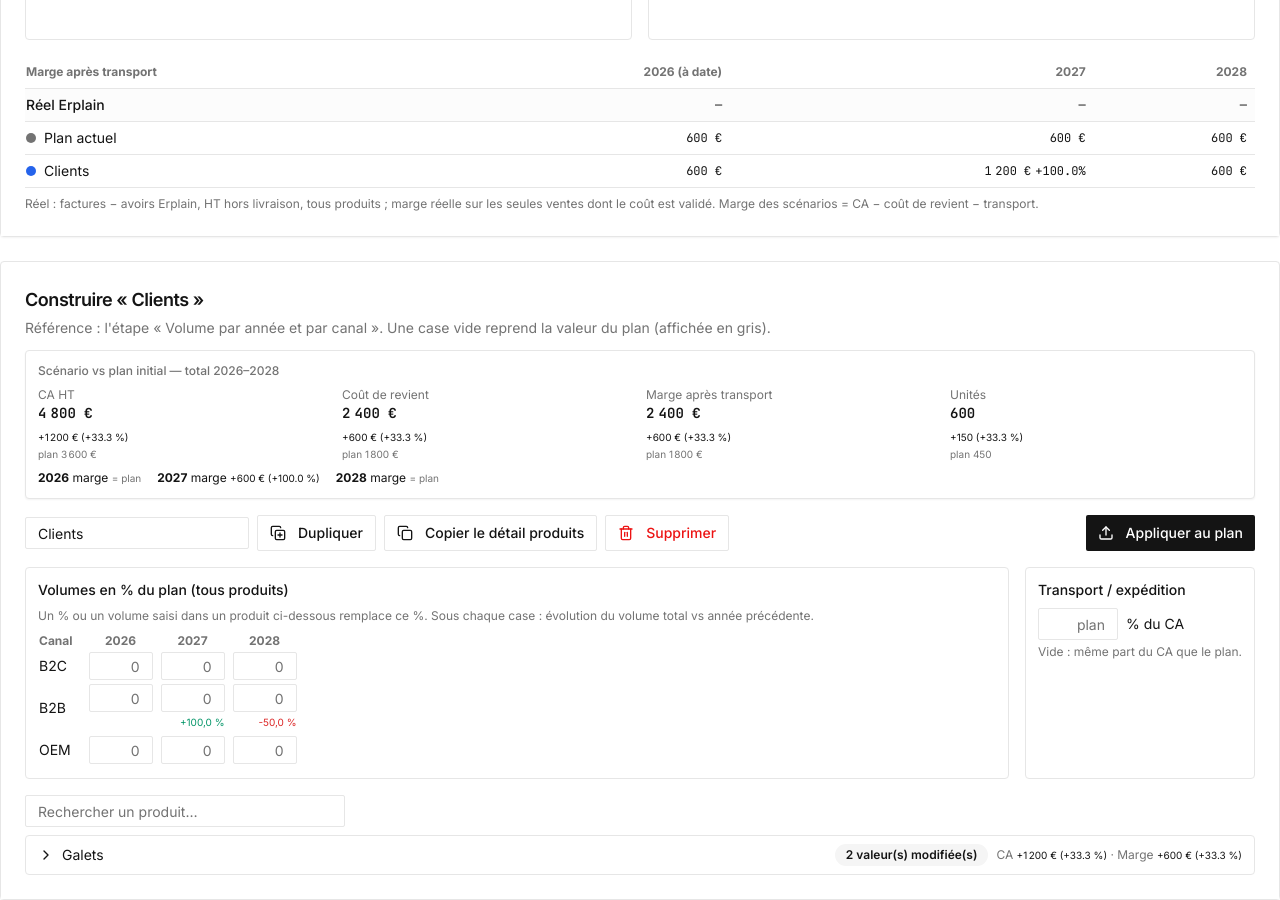
saisie de croissance des clients dans un scénario › bloque la croissance client quand un total est saisi et retrouve le taux en retirant ce total
Later steps or results of the test are not shown.
(page scrolled)
Click the button "Galets" at (83, 854), box [26, 836, 1254, 874]
(page scrolled)
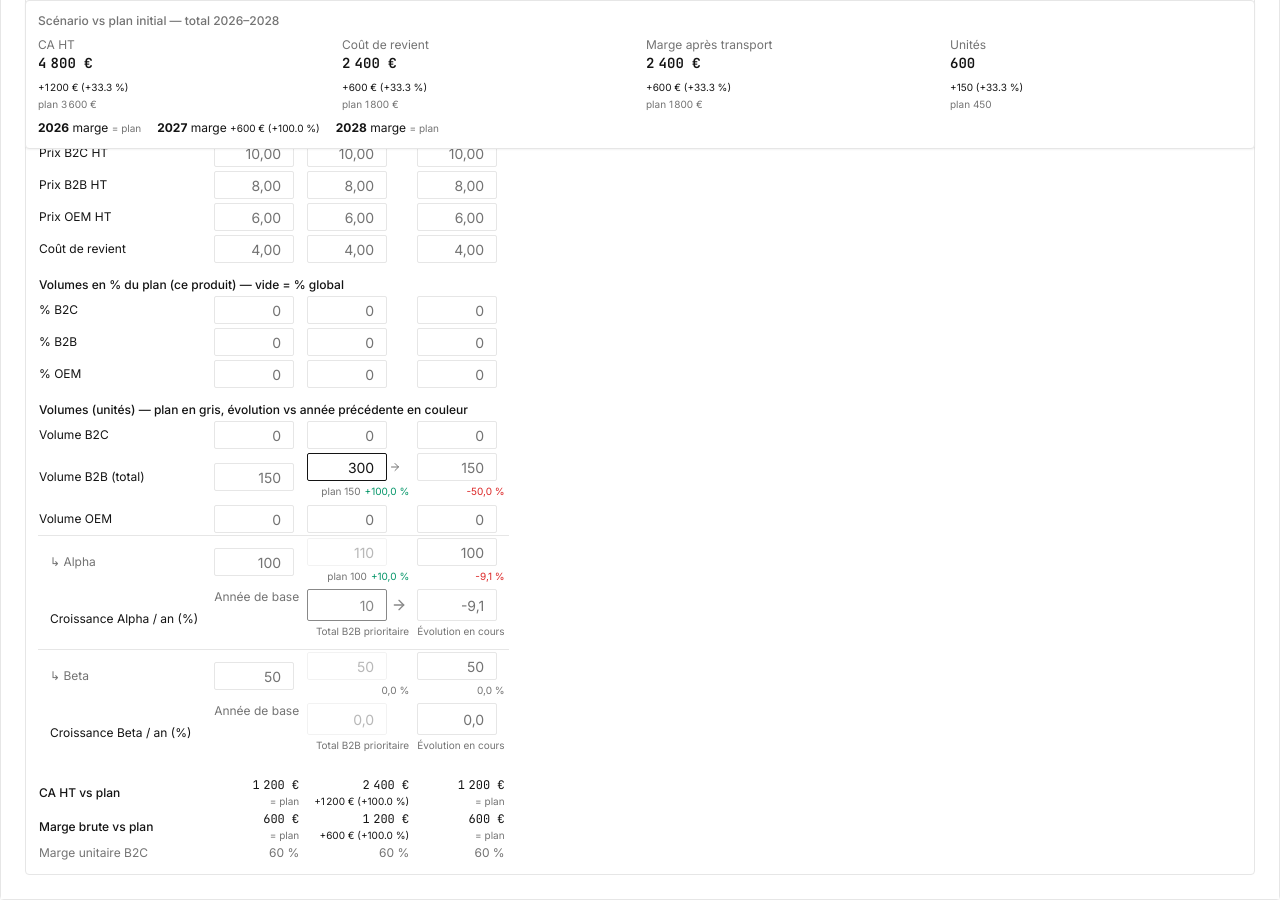
Check: the field named "Croissance Alpha 2027" is disabled, box [307, 589, 387, 621]
